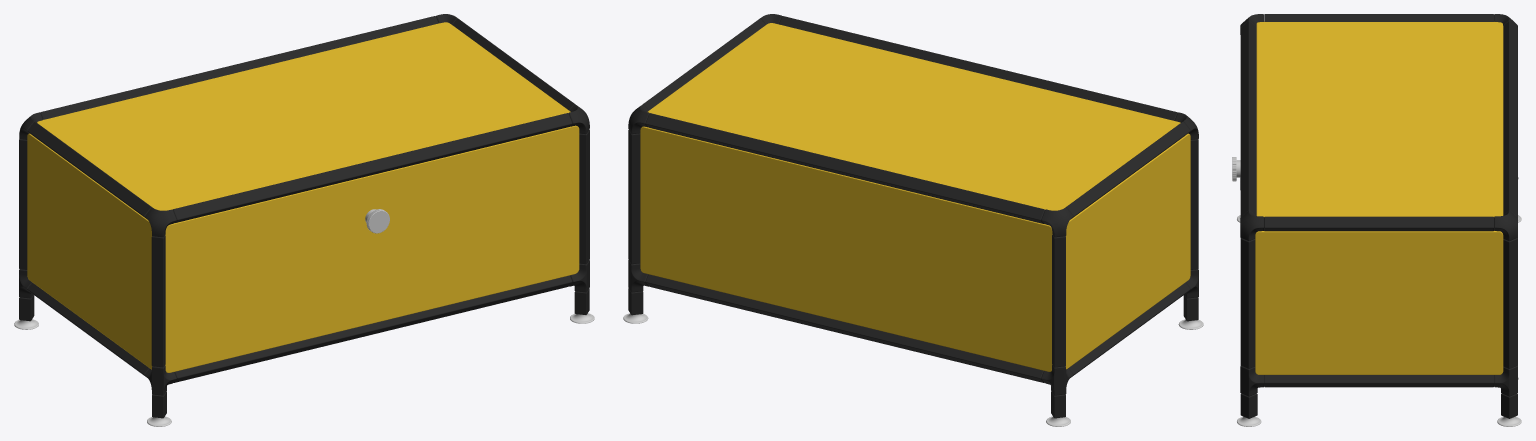
The picture shows the model from 3 angles, left to right: view 1: azimuth 30°, elevation 25°; view 2: azimuth 150°, elevation 25°; view 3: azimuth 270°, elevation 25°; orthographic projection.
Parts seen in each view (by area): view 1: 729x374x229; view 2: 729x374x229; view 3: 729x374x229.
Boxes of the visible parts, <box> form: 729x374x229: <box>14,14,594,426</box>; 729x374x229: <box>623,14,1203,426</box>; 729x374x229: <box>1232,14,1521,426</box>.
Size of the model in its own units: 0.8189 by 0.3683 by 0.4707.
